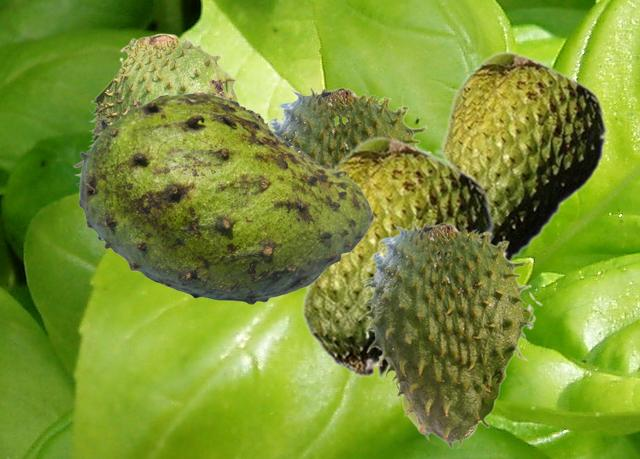guyabano: (76, 91, 373, 304), (298, 135, 494, 380), (357, 221, 542, 448), (433, 50, 607, 260), (73, 33, 238, 177), (266, 86, 431, 167)
